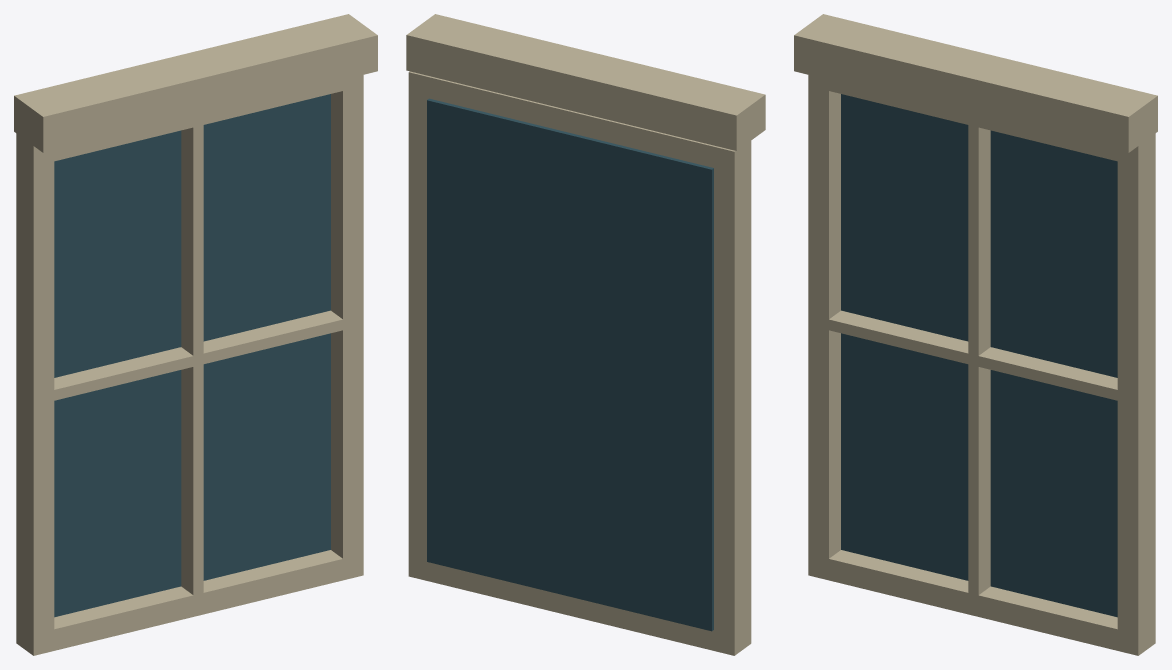
Rendered from window_34.glb.
The picture shows the model from 3 angles, left to right: view 1: azimuth 30°, elevation 25°; view 2: azimuth 150°, elevation 25°; view 3: azimuth 330°, elevation 25°; orthographic projection.
Visible parts, largest first — view 1: window_34; view 2: window_34; view 3: window_34.
Part boxes in pixels (<box>): window_34: <box>14,14,377,655</box>; window_34: <box>406,14,765,655</box>; window_34: <box>794,14,1157,655</box>.
Size of the model in its own units: 1.46 by 2.28 by 0.2375.
